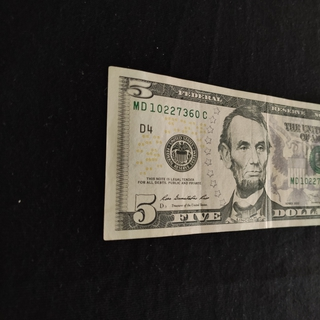5USDFront: (102, 62, 320, 242)
